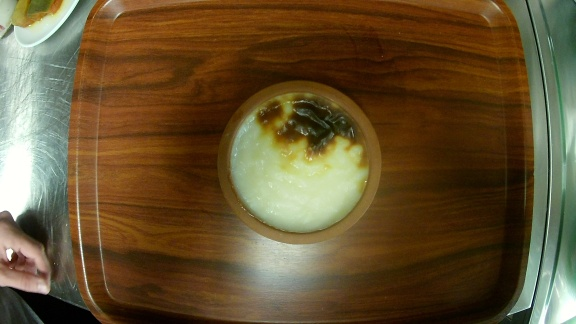sutlac: (217, 79, 384, 245)
